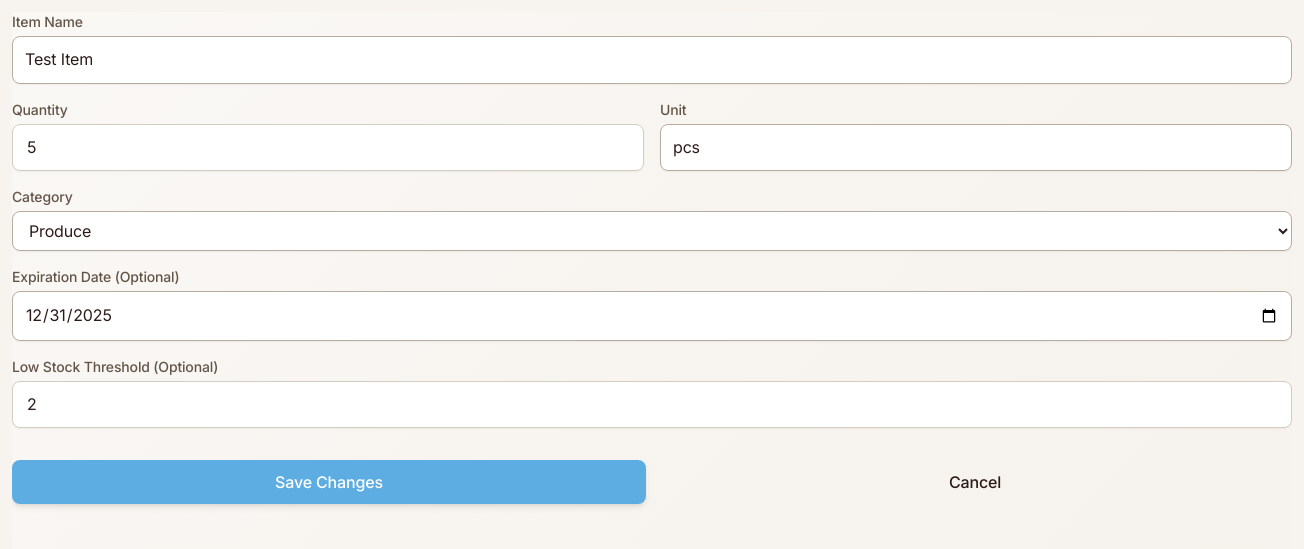
Scenario: EditPantryItemForm › shows error when name is cleared
Clear the field labelled "Item Name": (652, 60) [12, 36, 1292, 84]
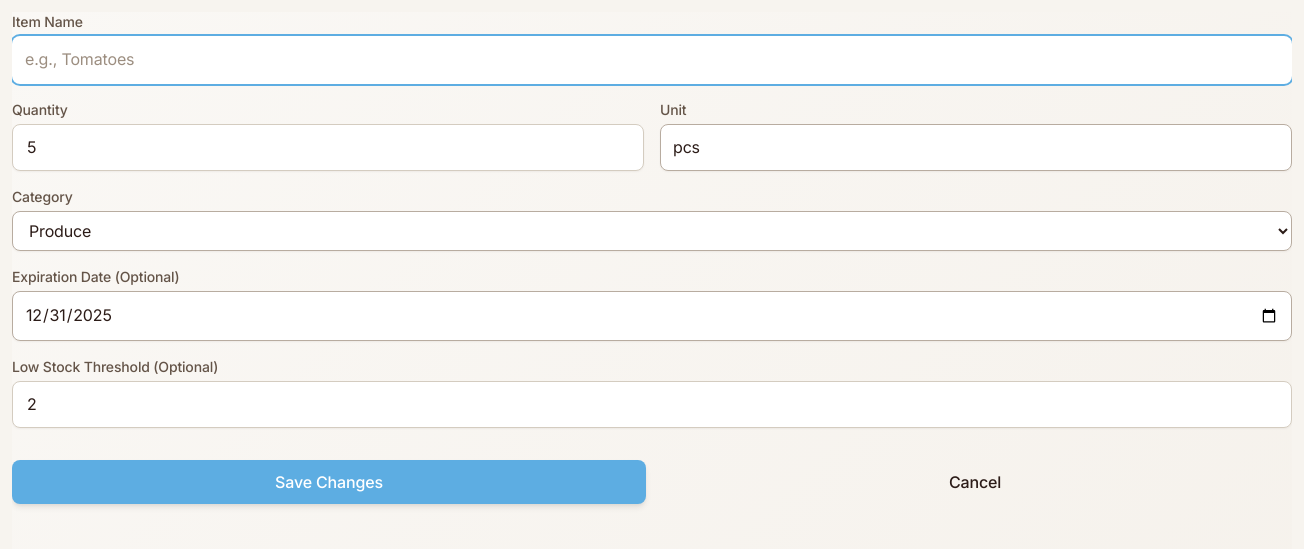
Click the button "Save Changes": (329, 482) [12, 460, 646, 504]
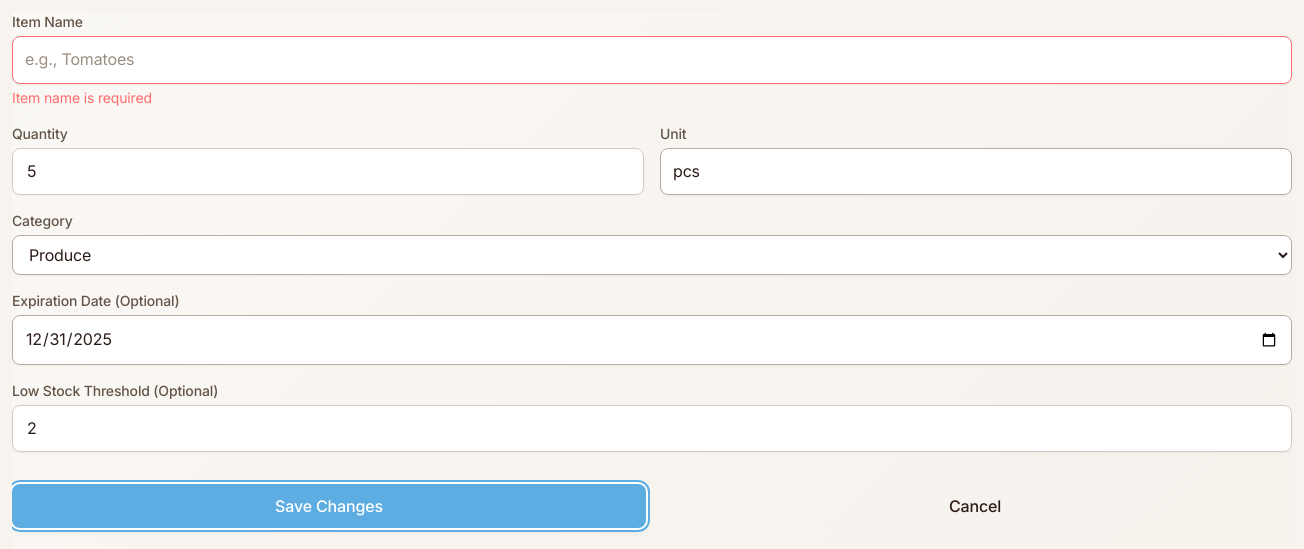
Expected: the text "Item name is required" is shown, [12, 89, 152, 106]
